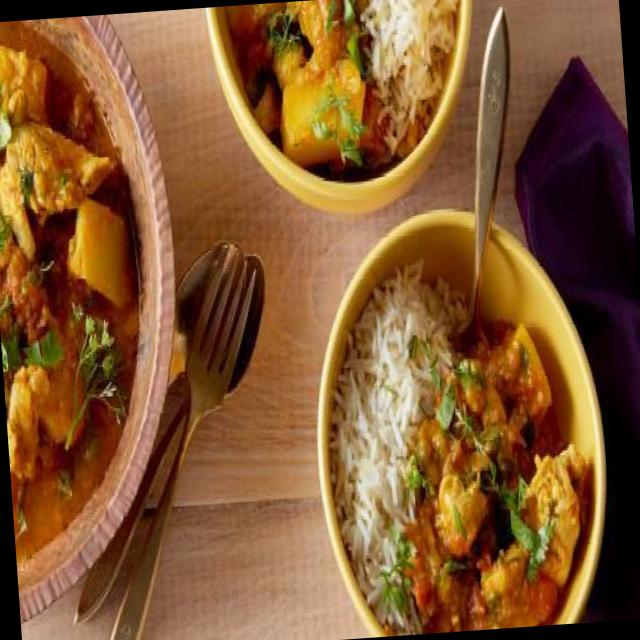chicken: (0, 37, 147, 548), (431, 353, 570, 632), (223, 1, 384, 178)
rice: (308, 296, 454, 584), (365, 0, 474, 150)
